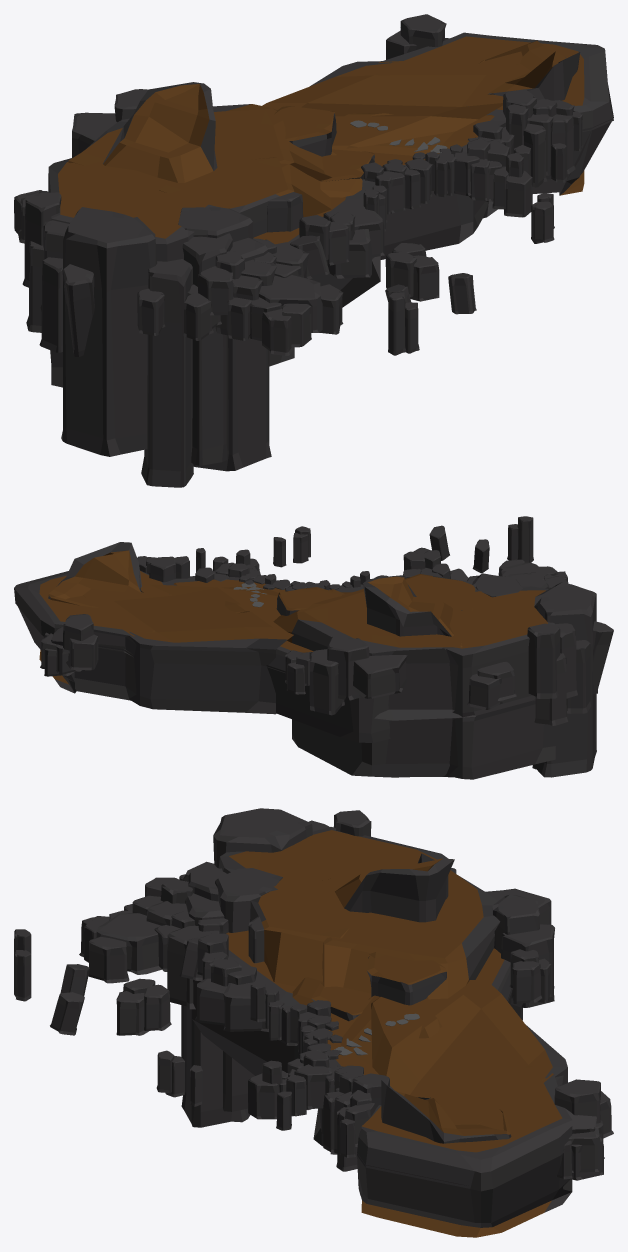
The model's file is rock.gltf.
3 renders of one model, top to bottom at view 1: azimuth 30°, elevation 25°; view 2: azimuth 150°, elevation 25°; view 3: azimuth 270°, elevation 25°, orthographic. The views are drawn at different scales.
Parts seen in each view (by area): view 1: cuboid (×6), base, baseRaised; view 2: cuboid (×4), baseRaised, base; view 3: cuboid (×5), base, baseRaised.
Boxes of the visible parts, x1,y1,x2,y2 form: cuboid (×6): (14,14,582,487); base: (253,32,613,307); baseRaised: (48,104,331,387); cuboid (×4): (40,516,613,777); baseRaised: (273,574,555,779); base: (14,570,390,742); cuboid (×5): (14,808,613,1180); base: (192,930,572,1237); baseRaised: (218,827,500,999).
Bounding box in the file's own units: 82.32 × 33.65 × 64.67.
Materials: 8 (8 with a texture image).
